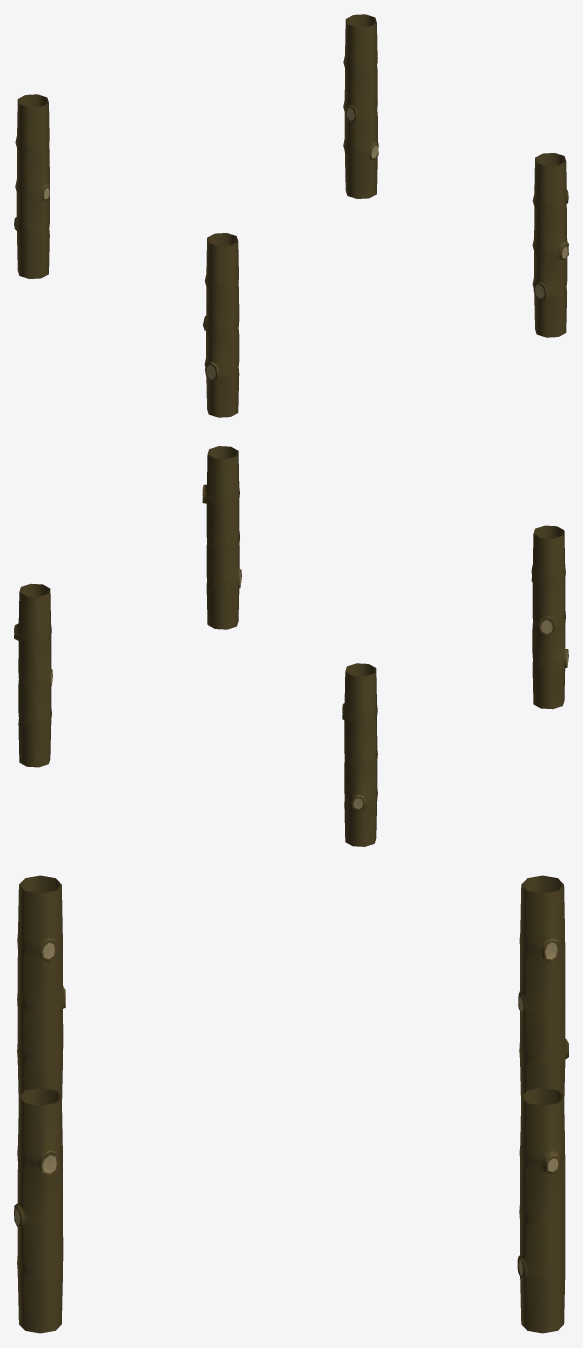
File: Poles_Build_V2.fbx
The picture shows the model from 3 angles, top to bottom: view 1: azimuth 30°, elevation 25°; view 2: azimuth 150°, elevation 25°; view 3: azimuth 270°, elevation 25°; orthographic projection. The views are drawn at different scales.
Visible parts, largest first — view 1: polySurface2; view 2: polySurface2; view 3: polySurface2.
Boxes of the visible parts, x1,y1,x2,y2 form: polySurface2: (14,14,568,417); polySurface2: (14,446,568,846); polySurface2: (14,875,568,1333).
Bounding box in the file's own units: 4.43 × 2 × 4.42.
